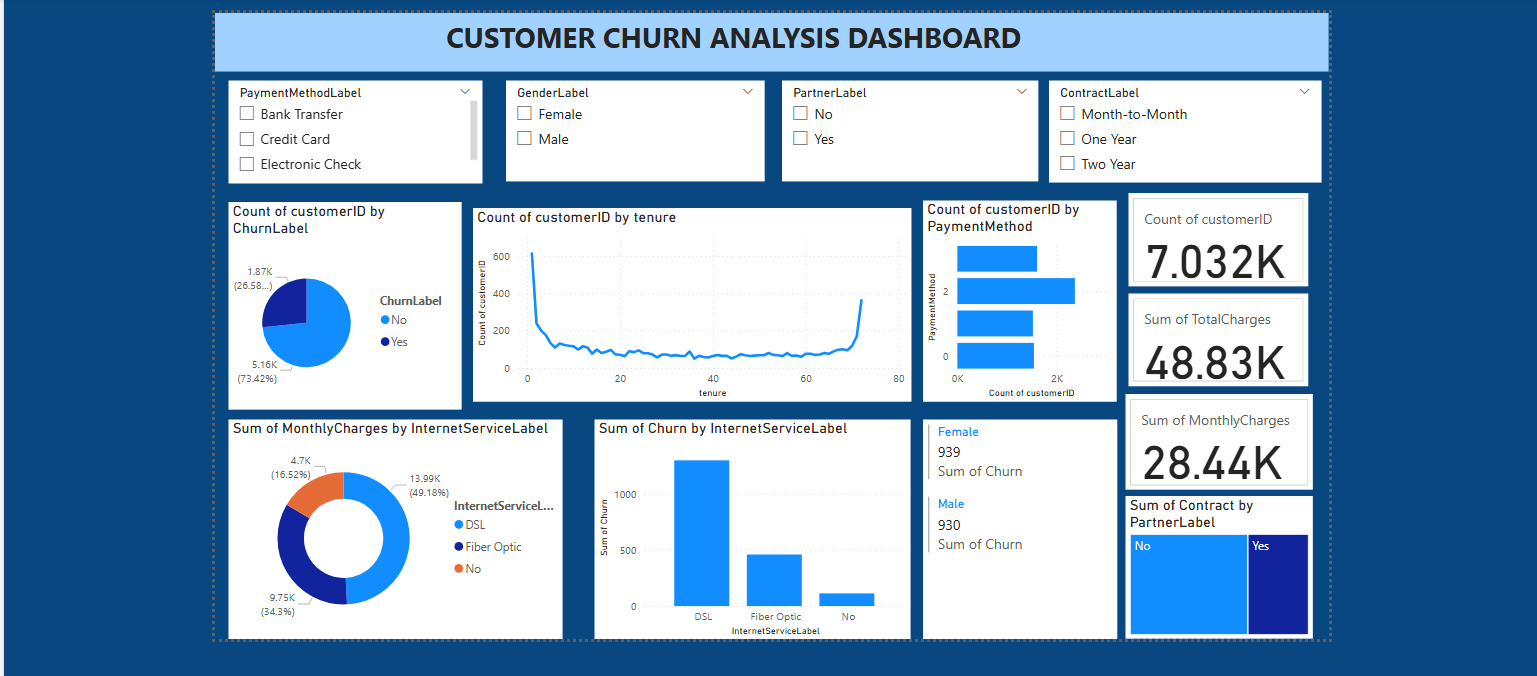

What the dashboard file says about the page in this screenshot:
{"tool":"powerbi","page":{"name":"Page 1","canvas":[1280,720],"ordinal":0},"visuals":[{"type":"textbox","box":[0,0,1280.3,67.3],"z":0},{"type":"pieChart","fields":{"Y":["CountNonNull(Cleaned_Churn_Data.customerID)"],"Category":["Cleaned_Churn_Data.ChurnLabel"]},"box":[15.9,216.4,267.8,238.5],"z":1000},{"type":"barChart","fields":{"Y":["CountNonNull(Cleaned_Churn_Data.customerID)"],"Category":["Cleaned_Churn_Data.PaymentMethod"]},"box":[813.2,215.2,222.6,231.1],"z":2000},{"type":"lineChart","fields":{"Y":["CountNonNull(Cleaned_Churn_Data.customerID)"],"Category":["Cleaned_Churn_Data.tenure"]},"box":[295.9,223.8,503.8,222.6],"z":3000},{"type":"slicer","fields":{"Values":["Cleaned_Churn_Data.GenderLabel"]},"box":[335.1,77,297.1,116.2],"z":4000},{"type":"slicer","fields":{"Values":["Cleaned_Churn_Data.PartnerLabel"]},"box":[651.8,78.3,294.7,116.2],"z":5000},{"type":"slicer","fields":{"Values":["Cleaned_Churn_Data.ContractLabel"]},"box":[958.7,78.3,313,117.4],"z":6000},{"type":"cardVisual","fields":{"Data":["CountNonNull(Cleaned_Churn_Data.customerID)"]},"box":[1050.4,206.7,206.7,107.6],"z":7000},{"type":"cardVisual","fields":{"Data":["Sum(Cleaned_Churn_Data.MonthlyCharges)"]},"box":[1046.7,437.8,215.2,110.1],"z":8000},{"type":"cardVisual","fields":{"Data":["Sum(Cleaned_Churn_Data.TotalCharges)"]},"box":[1050.4,322.8,206.7,106.4],"z":9000},{"type":"donutChart","fields":{"Y":["Sum(Cleaned_Churn_Data.MonthlyCharges)"],"Category":["Cleaned_Churn_Data.InternetServiceLabel"]},"box":[15.9,467.1,384,253.1],"z":10000},{"type":"slicer","fields":{"Values":["Cleaned_Churn_Data.PaymentMethodLabel"]},"box":[15.9,78.3,291,117.4],"z":11000},{"type":"columnChart","fields":{"Y":["Sum(Cleaned_Churn_Data.Churn)"],"Category":["Cleaned_Churn_Data.InternetServiceLabel"]},"box":[436.6,467.1,363.2,253.1],"z":12000},{"type":"multiRowCard","fields":{"Values":["Cleaned_Churn_Data.GenderLabel","Sum(Cleaned_Churn_Data.Churn)"]},"box":[813,467,223,253],"z":13000},{"type":"treemap","fields":{"Values":["Sum(Cleaned_Churn_Data.Contract)"],"Details":["Cleaned_Churn_Data.PartnerLabel"]},"box":[1047,556,215,164],"z":14000}]}

Visuals, with their boxes on the page's 1280x720 design canvas (x1, y1, x2, y2). These are canvas units, not pixel positions in the 1537x676 screenshot, which may show the page scaled, cropped or inside an application window:
textbox: bbox=(0, 0, 1280, 67)
pieChart - CountNonNull(Cleaned_Churn_Data.customerID) x Cleaned_Churn_Data.ChurnLabel: bbox=(16, 216, 284, 455)
barChart - CountNonNull(Cleaned_Churn_Data.customerID) x Cleaned_Churn_Data.PaymentMethod: bbox=(813, 215, 1036, 446)
lineChart - CountNonNull(Cleaned_Churn_Data.customerID) x Cleaned_Churn_Data.tenure: bbox=(296, 224, 800, 446)
slicer - Cleaned_Churn_Data.GenderLabel: bbox=(335, 77, 632, 193)
slicer - Cleaned_Churn_Data.PartnerLabel: bbox=(652, 78, 946, 194)
slicer - Cleaned_Churn_Data.ContractLabel: bbox=(959, 78, 1272, 196)
cardVisual - CountNonNull(Cleaned_Churn_Data.customerID): bbox=(1050, 207, 1257, 314)
cardVisual - Sum(Cleaned_Churn_Data.MonthlyCharges): bbox=(1047, 438, 1262, 548)
cardVisual - Sum(Cleaned_Churn_Data.TotalCharges): bbox=(1050, 323, 1257, 429)
donutChart - Sum(Cleaned_Churn_Data.MonthlyCharges) x Cleaned_Churn_Data.InternetServiceLabel: bbox=(16, 467, 400, 720)
slicer - Cleaned_Churn_Data.PaymentMethodLabel: bbox=(16, 78, 307, 196)
columnChart - Sum(Cleaned_Churn_Data.Churn) x Cleaned_Churn_Data.InternetServiceLabel: bbox=(437, 467, 800, 720)
multiRowCard - Cleaned_Churn_Data.GenderLabel x Sum(Cleaned_Churn_Data.Churn): bbox=(813, 467, 1036, 720)
treemap - Sum(Cleaned_Churn_Data.Contract) x Cleaned_Churn_Data.PartnerLabel: bbox=(1047, 556, 1262, 720)
